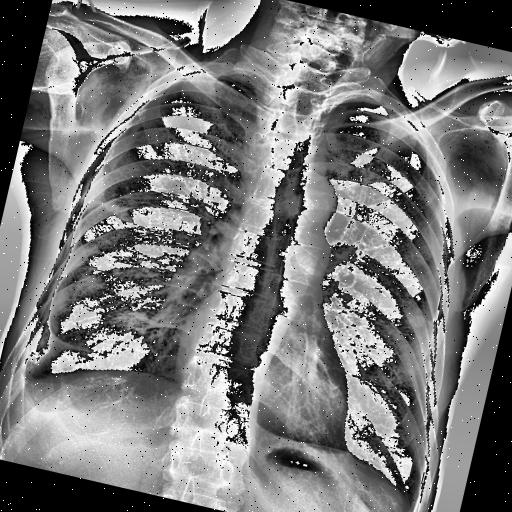0- Aortic enlargement: (272, 165, 336, 219)
10- Pleural effusion: (0, 346, 78, 398), (2, 362, 44, 403)
11- Pleural thickening: (22, 306, 102, 376), (0, 346, 78, 398), (84, 194, 143, 226), (2, 362, 44, 403), (1, 361, 44, 399), (24, 324, 54, 366), (393, 114, 429, 144)
13- Pulmonary fibrosis: (84, 194, 143, 226), (91, 194, 141, 225), (96, 200, 146, 225), (404, 312, 438, 332)
2- Calcification: (24, 324, 54, 366), (33, 322, 57, 366)
8- Nodule-Mass: (403, 311, 430, 331), (110, 265, 126, 279), (427, 318, 434, 326)
9- Other lesion: (297, 232, 335, 280), (403, 311, 430, 331)
